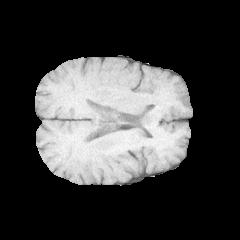glioma: (121, 90, 158, 123)
